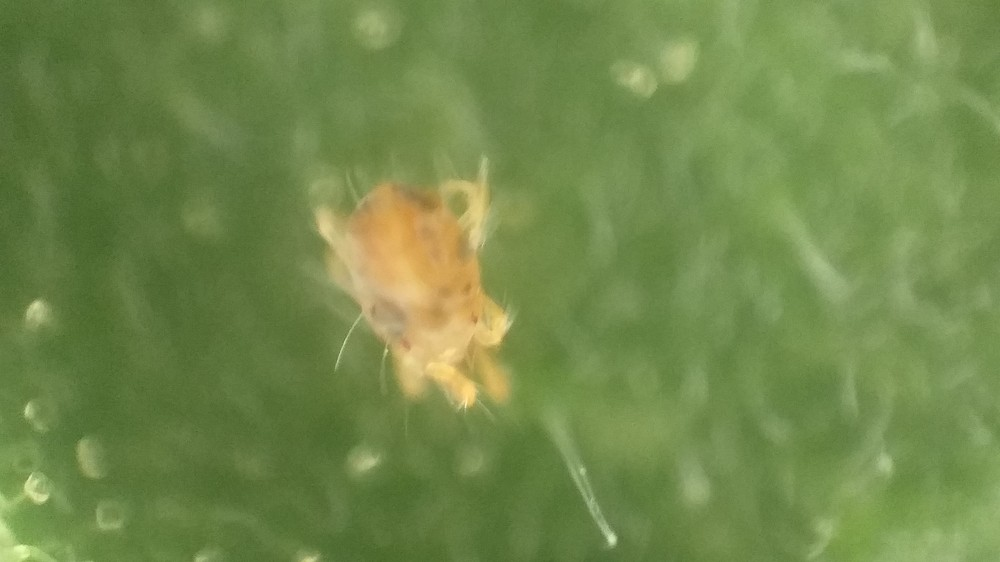Aracnido Rojo: (298, 156, 554, 429)
